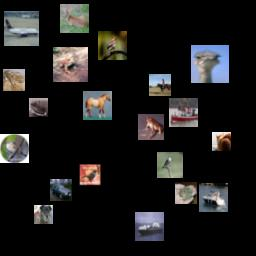airplane: (4, 11, 39, 46)
automobile: (50, 179, 72, 201)
bird: (191, 45, 229, 83), (98, 31, 127, 60), (0, 134, 29, 163), (157, 152, 183, 178), (79, 164, 101, 186)
cat: (212, 132, 231, 151)
deer: (60, 4, 89, 33)
dog: (34, 205, 53, 224)
frog: (53, 47, 88, 82), (138, 114, 164, 140), (3, 69, 25, 91), (175, 182, 197, 204)
ship: (135, 212, 164, 241), (199, 183, 228, 212), (169, 98, 198, 127), (29, 98, 48, 117)
